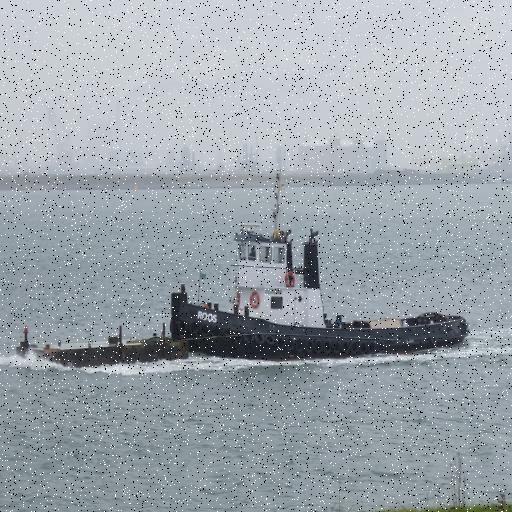tugboat: (168, 219, 474, 369)
